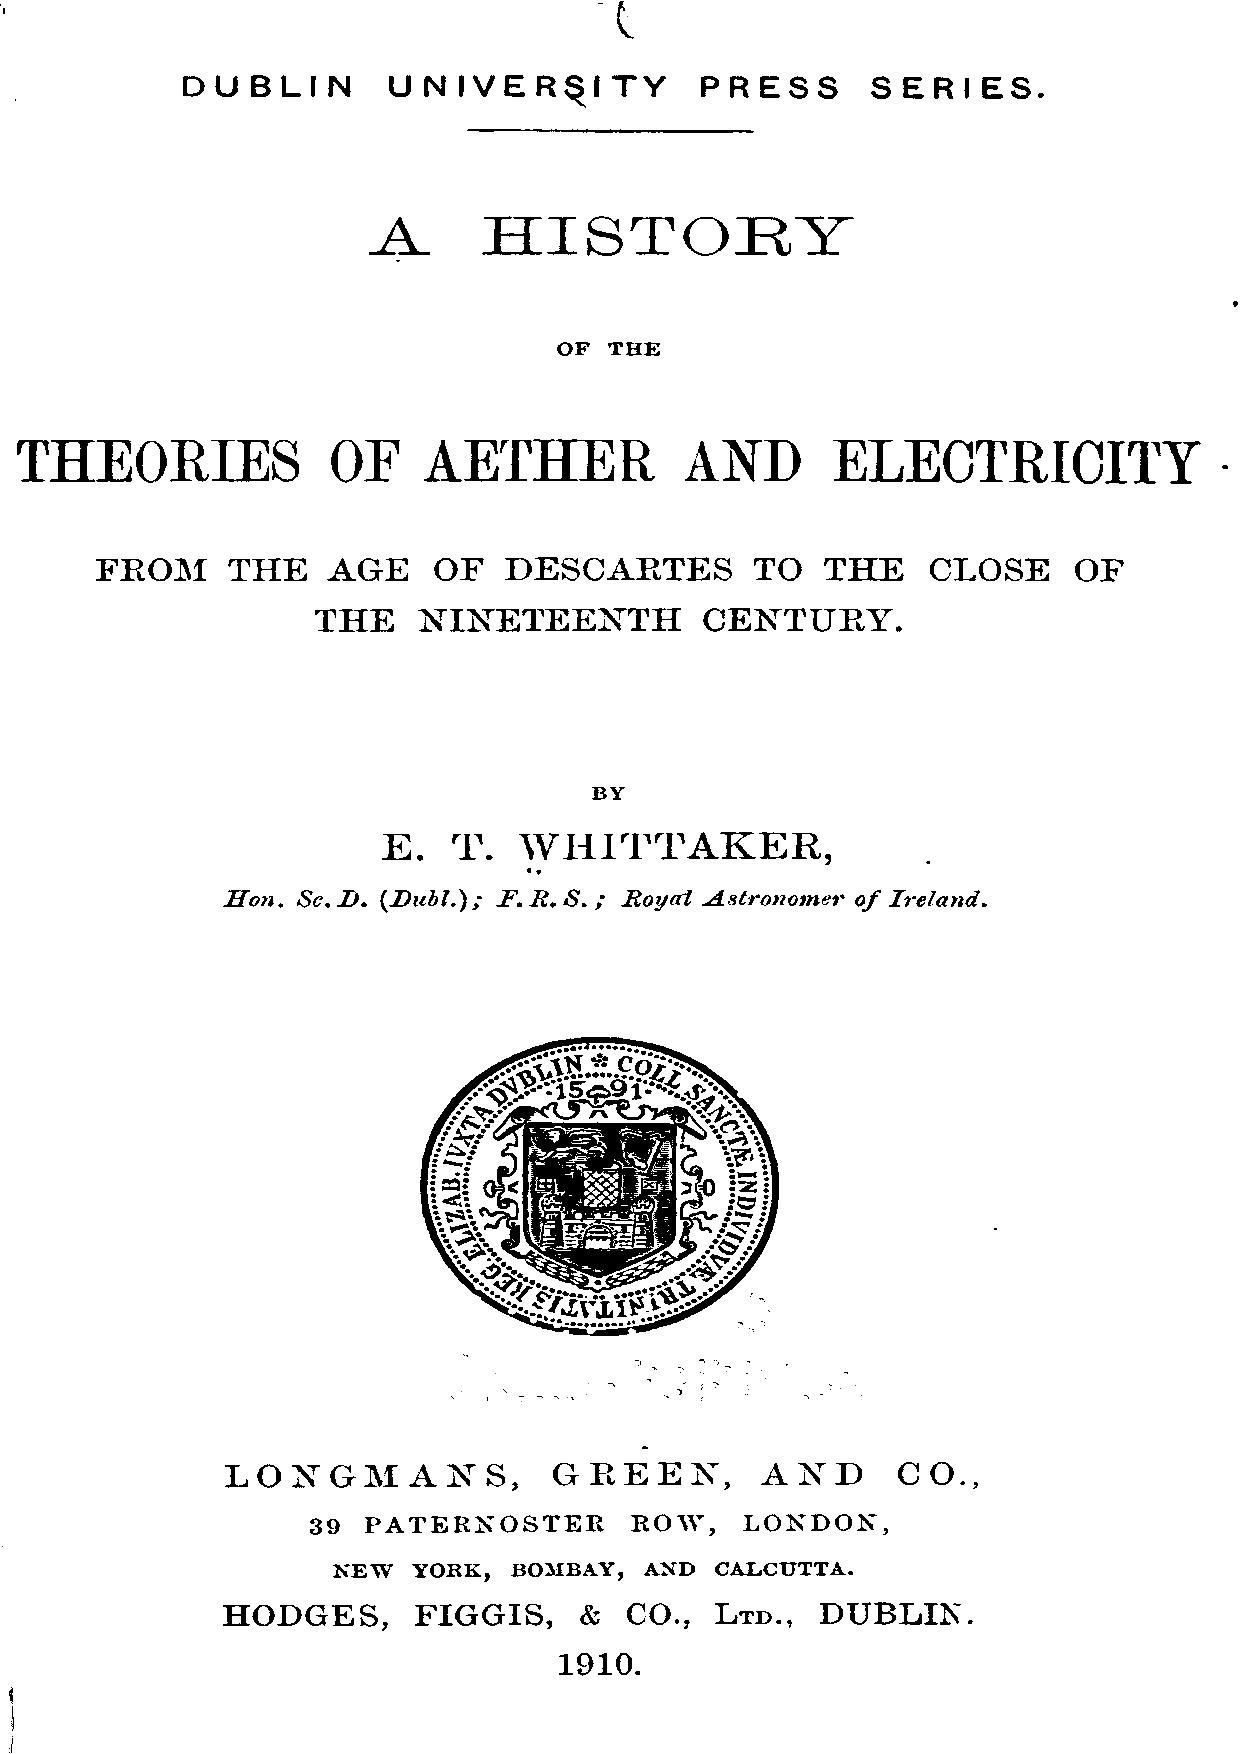author: (377, 784, 833, 864)
title: (13, 213, 1201, 487)
